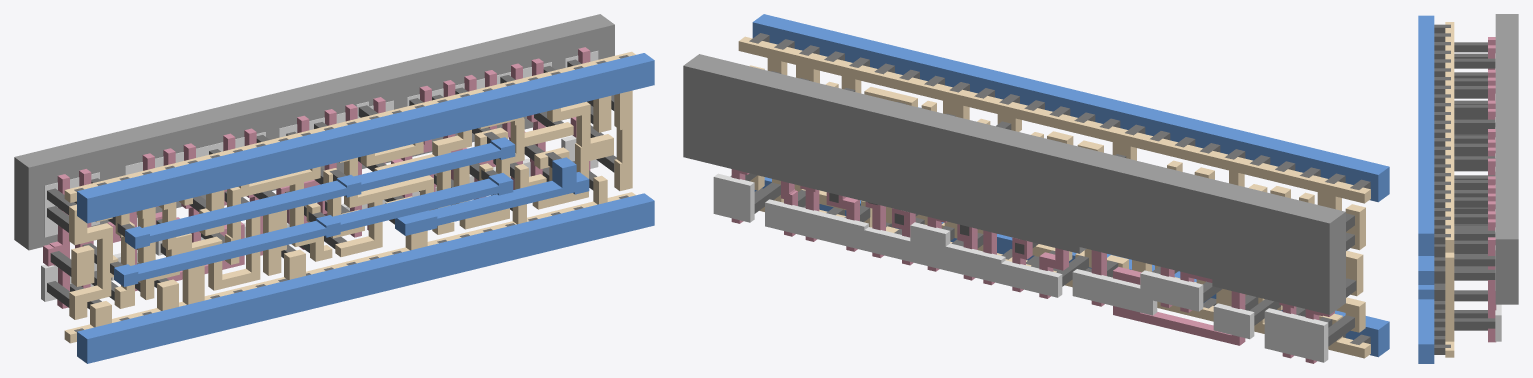
The model's file is sky130_fd_sc_hd__sdfrtp_1.gds.gltf.
3 renders of one model, left to right at view 1: azimuth 30°, elevation 25°; view 2: azimuth 150°, elevation 25°; view 3: azimuth 270°, elevation 25°, orthographic. The views are drawn at different scales.
Visible parts, largest first — view 1: sky130_fd_sc_hd__sdfrtp_1_met1, sky130_fd_sc_hd__sdfrtp_1_li1, sky130_fd_sc_hd__sdfrtp_1_nwell, sky130_fd_sc_hd__sdfrtp_1_poly, sky130_fd_sc_hd__sdfrtp_1_licon, sky130_fd_sc_hd__sdfrtp_1_diff, sky130_fd_sc_hd__sdfrtp_1_mcon; view 2: sky130_fd_sc_hd__sdfrtp_1_nwell, sky130_fd_sc_hd__sdfrtp_1_li1, sky130_fd_sc_hd__sdfrtp_1_diff, sky130_fd_sc_hd__sdfrtp_1_met1, sky130_fd_sc_hd__sdfrtp_1_poly, sky130_fd_sc_hd__sdfrtp_1_mcon, sky130_fd_sc_hd__sdfrtp_1_licon; view 3: sky130_fd_sc_hd__sdfrtp_1_licon, sky130_fd_sc_hd__sdfrtp_1_nwell, sky130_fd_sc_hd__sdfrtp_1_met1, sky130_fd_sc_hd__sdfrtp_1_mcon, sky130_fd_sc_hd__sdfrtp_1_li1, sky130_fd_sc_hd__sdfrtp_1_poly, sky130_fd_sc_hd__sdfrtp_1_diff.
Part boxes in pixels (left/top/right/bottom): sky130_fd_sc_hd__sdfrtp_1_met1: left=77, top=53, right=654, bottom=363; sky130_fd_sc_hd__sdfrtp_1_li1: left=64, top=51, right=635, bottom=343; sky130_fd_sc_hd__sdfrtp_1_nwell: left=14, top=14, right=614, bottom=250; sky130_fd_sc_hd__sdfrtp_1_poly: left=43, top=47, right=590, bottom=308; sky130_fd_sc_hd__sdfrtp_1_licon: left=47, top=59, right=616, bottom=309; sky130_fd_sc_hd__sdfrtp_1_diff: left=41, top=51, right=598, bottom=301; sky130_fd_sc_hd__sdfrtp_1_mcon: left=74, top=55, right=628, bottom=332; sky130_fd_sc_hd__sdfrtp_1_nwell: left=683, top=54, right=1345, bottom=314; sky130_fd_sc_hd__sdfrtp_1_li1: left=738, top=36, right=1370, bottom=358; sky130_fd_sc_hd__sdfrtp_1_diff: left=713, top=173, right=1328, bottom=362; sky130_fd_sc_hd__sdfrtp_1_met1: left=752, top=14, right=1389, bottom=357; sky130_fd_sc_hd__sdfrtp_1_poly: left=731, top=169, right=1334, bottom=363; sky130_fd_sc_hd__sdfrtp_1_mcon: left=749, top=33, right=1370, bottom=344; sky130_fd_sc_hd__sdfrtp_1_licon: left=730, top=71, right=1356, bottom=346; sky130_fd_sc_hd__sdfrtp_1_licon: left=1454, top=42, right=1495, bottom=330; sky130_fd_sc_hd__sdfrtp_1_nwell: left=1495, top=14, right=1518, bottom=304; sky130_fd_sc_hd__sdfrtp_1_met1: left=1418, top=15, right=1434, bottom=363; sky130_fd_sc_hd__sdfrtp_1_mcon: left=1434, top=24, right=1450, bottom=354; sky130_fd_sc_hd__sdfrtp_1_li1: left=1445, top=22, right=1454, bottom=357; sky130_fd_sc_hd__sdfrtp_1_poly: left=1488, top=37, right=1496, bottom=342; sky130_fd_sc_hd__sdfrtp_1_diff: left=1495, top=53, right=1501, bottom=341.
Bounding box in the file's own units: 11.88 × 3.2 × 2.24.
